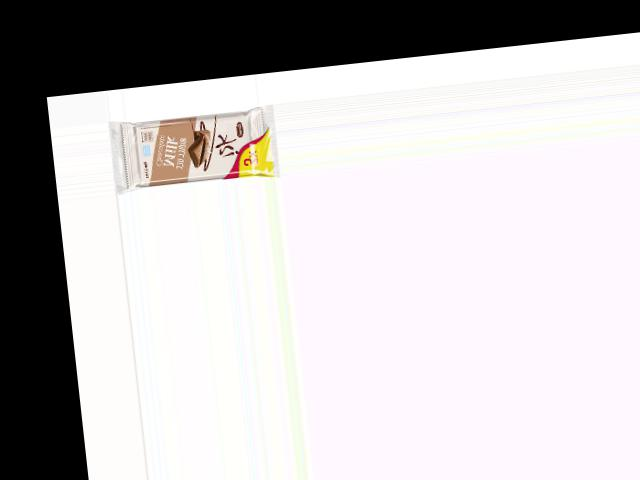chocolate: (123, 102, 281, 192)
